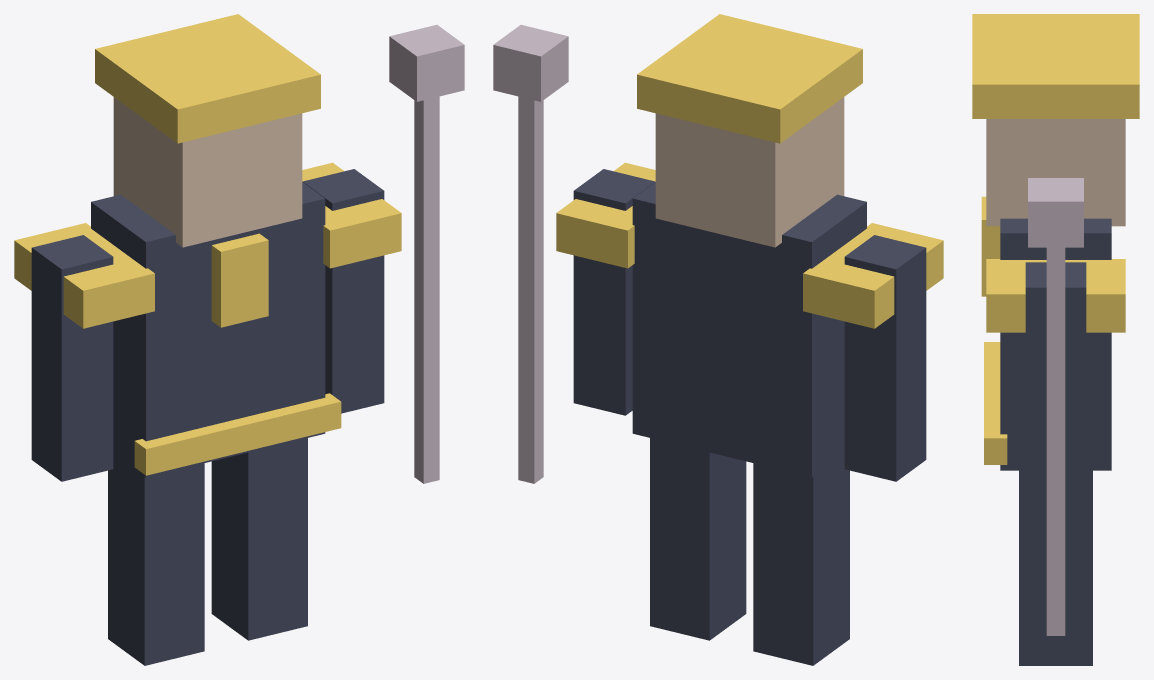
File: 01_keir_wayfare_watcher_from_data.glb
3 views of the same model, side by side, from view 1: azimuth 30°, elevation 25°; view 2: azimuth 150°, elevation 25°; view 3: azimuth 270°, elevation 25° (orthographic).
Visible parts, largest first — view 1: Keir Wayfare, Watcher from Data; view 2: Keir Wayfare, Watcher from Data; view 3: Keir Wayfare, Watcher from Data.
Boxes of the visible parts, x1,y1,x2,y2 form: Keir Wayfare, Watcher from Data: [14, 14, 464, 665]; Keir Wayfare, Watcher from Data: [493, 14, 943, 665]; Keir Wayfare, Watcher from Data: [972, 14, 1139, 665].
Size of the model in its own units: 1.05 by 1.42 by 0.3727.
